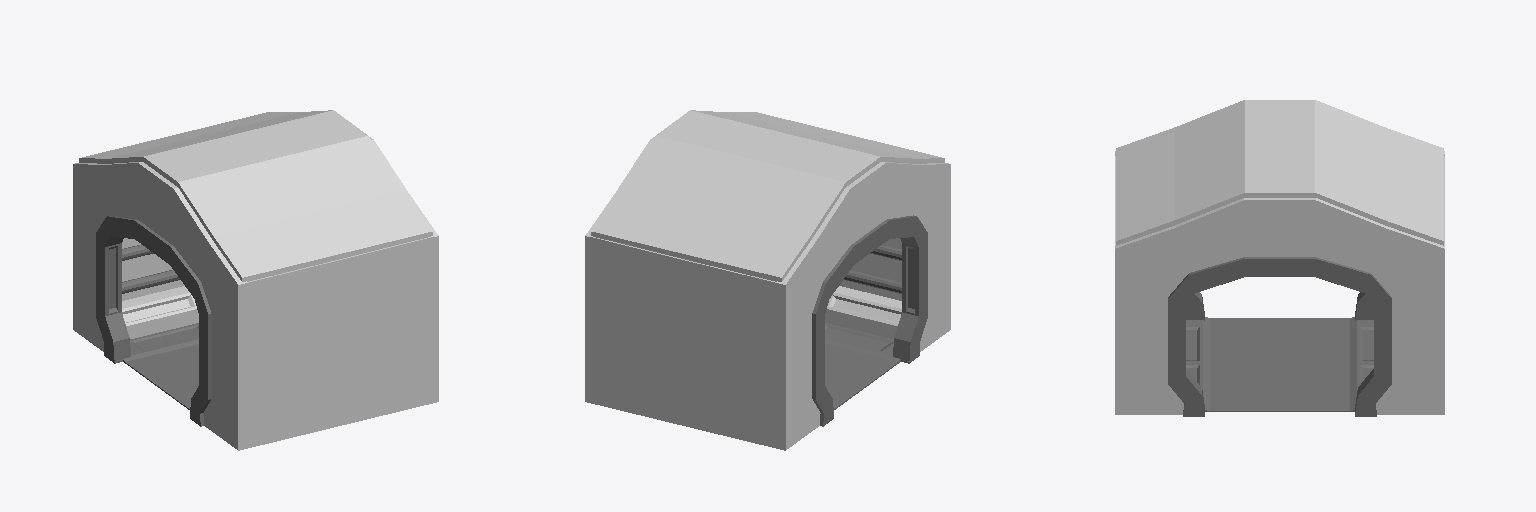
3 views of the same model, side by side, from view 1: azimuth 30°, elevation 25°; view 2: azimuth 150°, elevation 25°; view 3: azimuth 270°, elevation 25° (orthographic).
Parts seen in each view (by area): view 1: polySurface512 PasilloX20; view 2: polySurface512 PasilloX20; view 3: polySurface512 PasilloX20.
Part boxes in pixels (x1,y1,x2,y2): polySurface512 PasilloX20: (73,110,438,450); polySurface512 PasilloX20: (585,110,950,450); polySurface512 PasilloX20: (1115,100,1444,416).
Size of the model in its own units: 4.35 by 4.4 by 6.